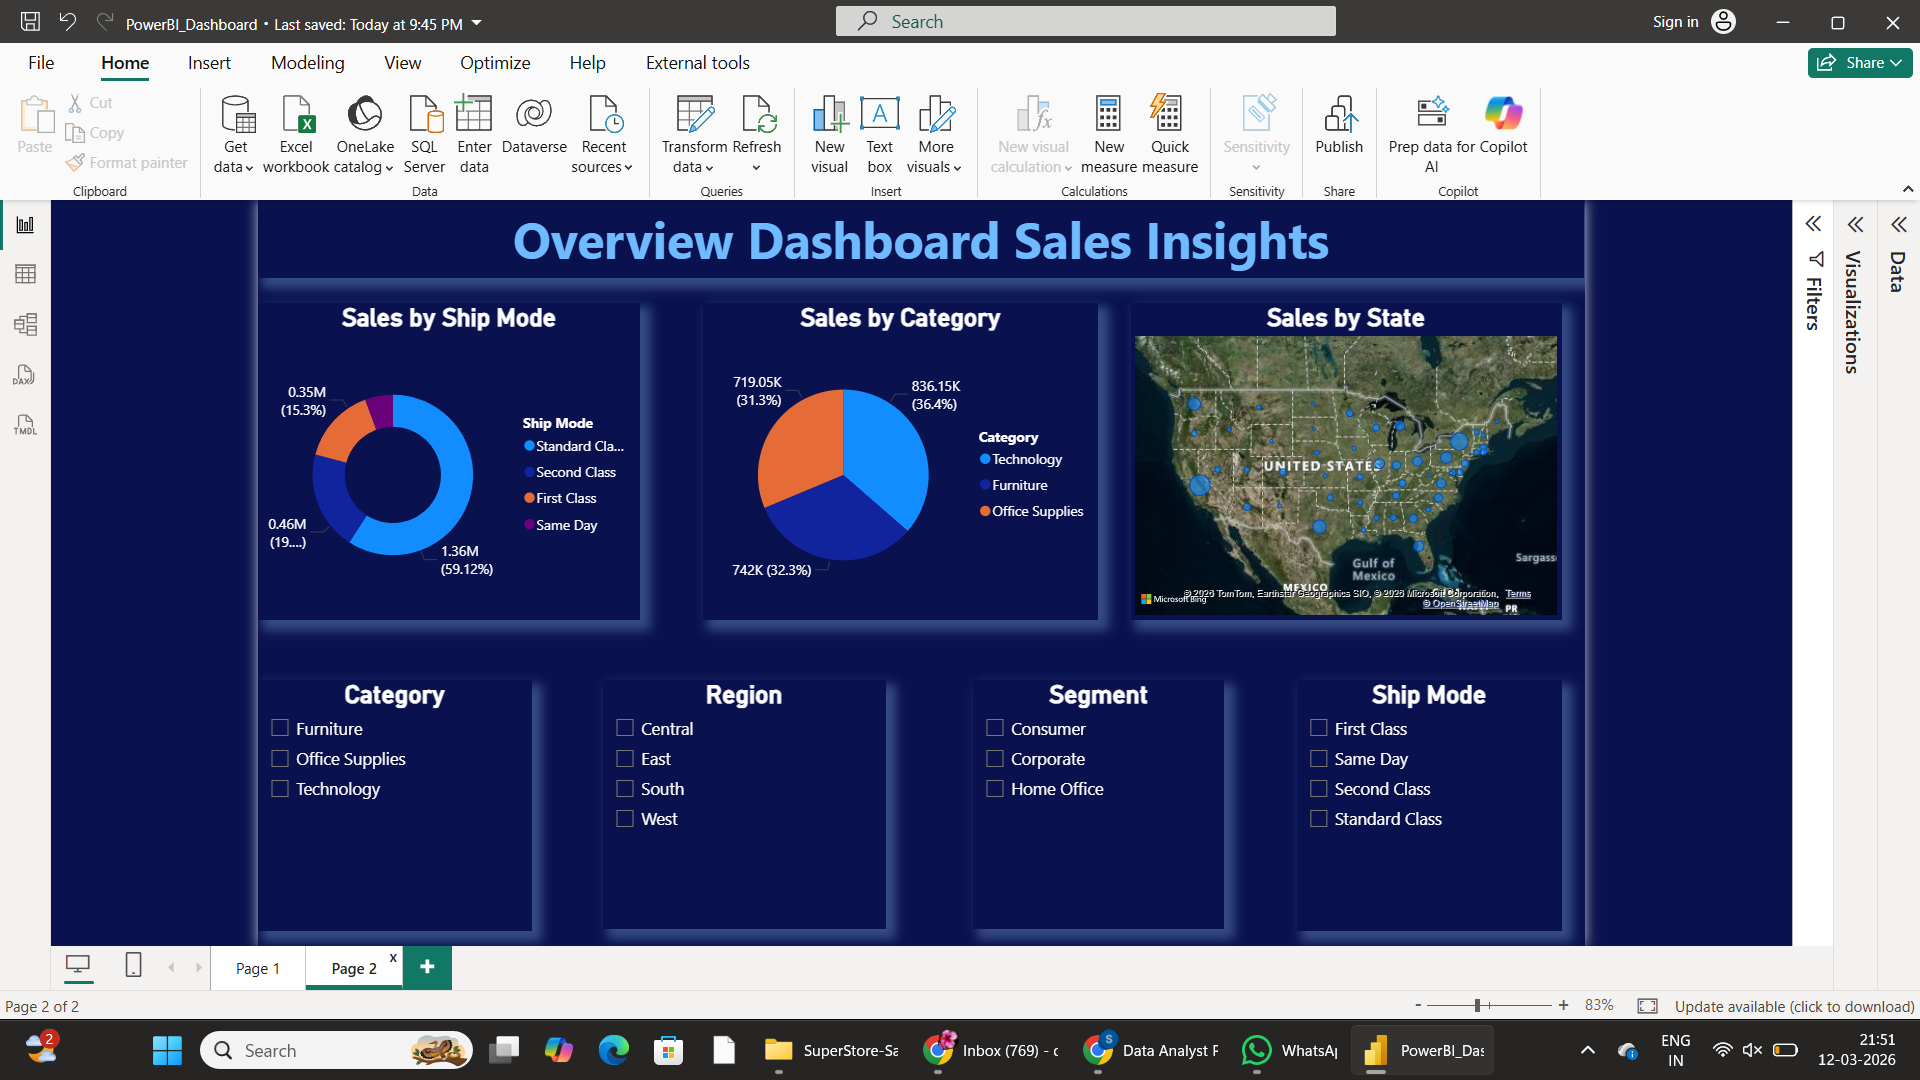

This screenshot's page, from the dashboard's own definition file:
{"tool":"powerbi","page":{"name":"Page 2","canvas":[1280,720],"ordinal":1},"visuals":[{"type":"donutChart","title":"Sales by Ship Mode","fields":{"Category":["raw_sales_data.Ship Mode"],"Y":["raw_sales_data.Total Sales"]},"box":[0,98.8,368.7,306.1],"z":0},{"type":"pieChart","title":"Sales by Category","fields":{"Category":["raw_sales_data.Category"],"Y":["raw_sales_data.Total Sales"]},"box":[429.9,98.8,381.2,306.1],"z":1000},{"type":"map","title":"Sales by State","fields":{"Category":["raw_sales_data.State"],"Size":["raw_sales_data.Total Sales"]},"box":[841.7,98.8,416,306.1],"z":2000},{"type":"slicer","title":"Category","fields":{"Values":["raw_sales_data.Category"]},"box":[0,463.3,264.2,242.5],"z":3000},{"type":"slicer","title":"Region","fields":{"Values":["raw_sales_data.Region"]},"box":[333,463.3,272.7,240.1],"z":4000},{"type":"slicer","title":"Segment","fields":{"Values":["raw_sales_data.Segment"]},"box":[690.1,463.3,242.5,240.1],"z":5000},{"type":"slicer","title":"Ship Mode","fields":{"Values":["raw_sales_data.Ship Mode"]},"box":[1002.6,463.3,255.8,242.5],"z":6000},{"type":"textbox","box":[0,0,1280,75.1],"z":6001}]}

Visuals, with their boxes on the page's 1280x720 design canvas (x1, y1, x2, y2). These are canvas units, not pixel positions in the 1920x1080 screenshot, which may show the page scaled, cropped or inside an application window:
"Sales by Ship Mode" donutChart: bbox=[0, 99, 369, 405]
"Sales by Category" pieChart: bbox=[430, 99, 811, 405]
"Sales by State" map: bbox=[842, 99, 1258, 405]
"Category" slicer: bbox=[0, 463, 264, 706]
"Region" slicer: bbox=[333, 463, 606, 703]
"Segment" slicer: bbox=[690, 463, 933, 703]
"Ship Mode" slicer: bbox=[1003, 463, 1258, 706]
textbox: bbox=[0, 0, 1280, 75]
